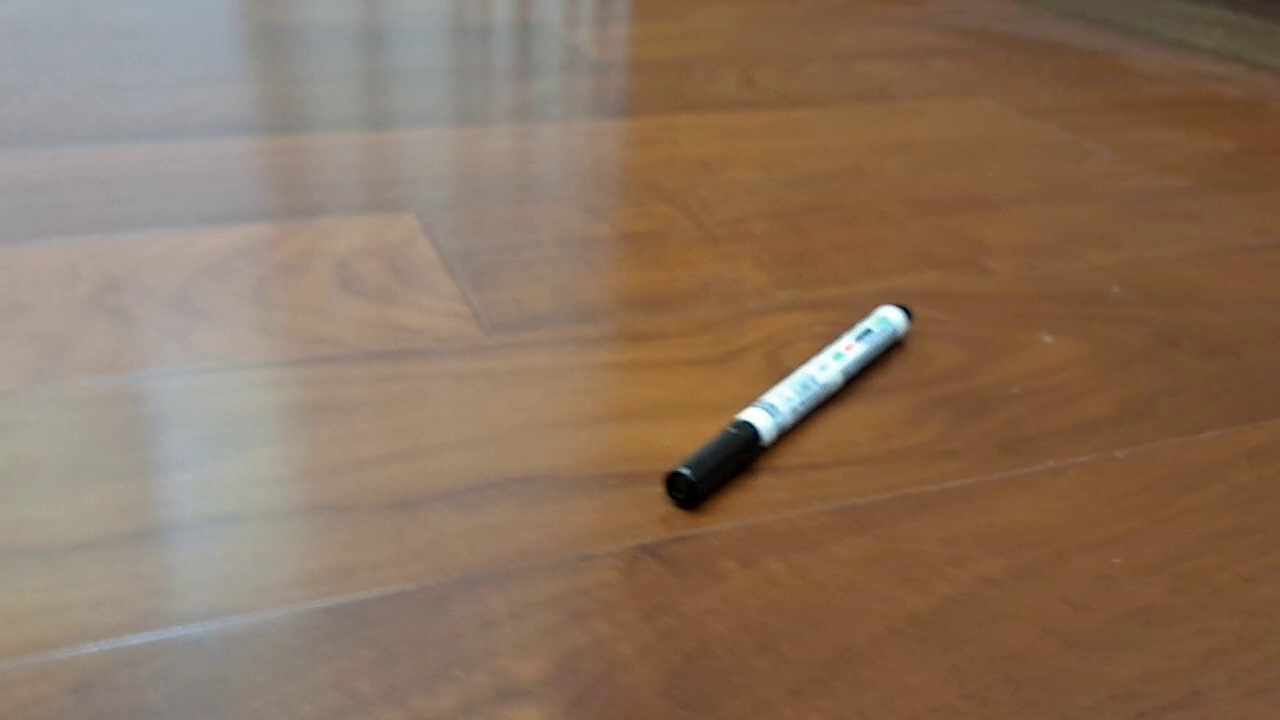pen: (663, 302, 913, 512)
